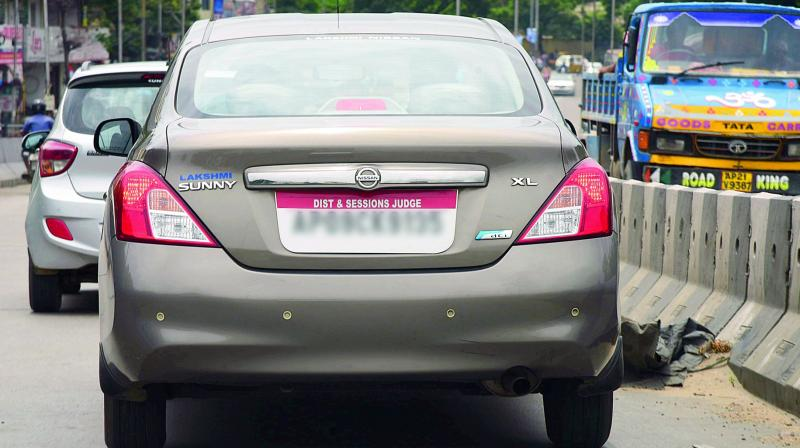number_plate: (271, 186, 466, 260), (718, 166, 759, 197)
